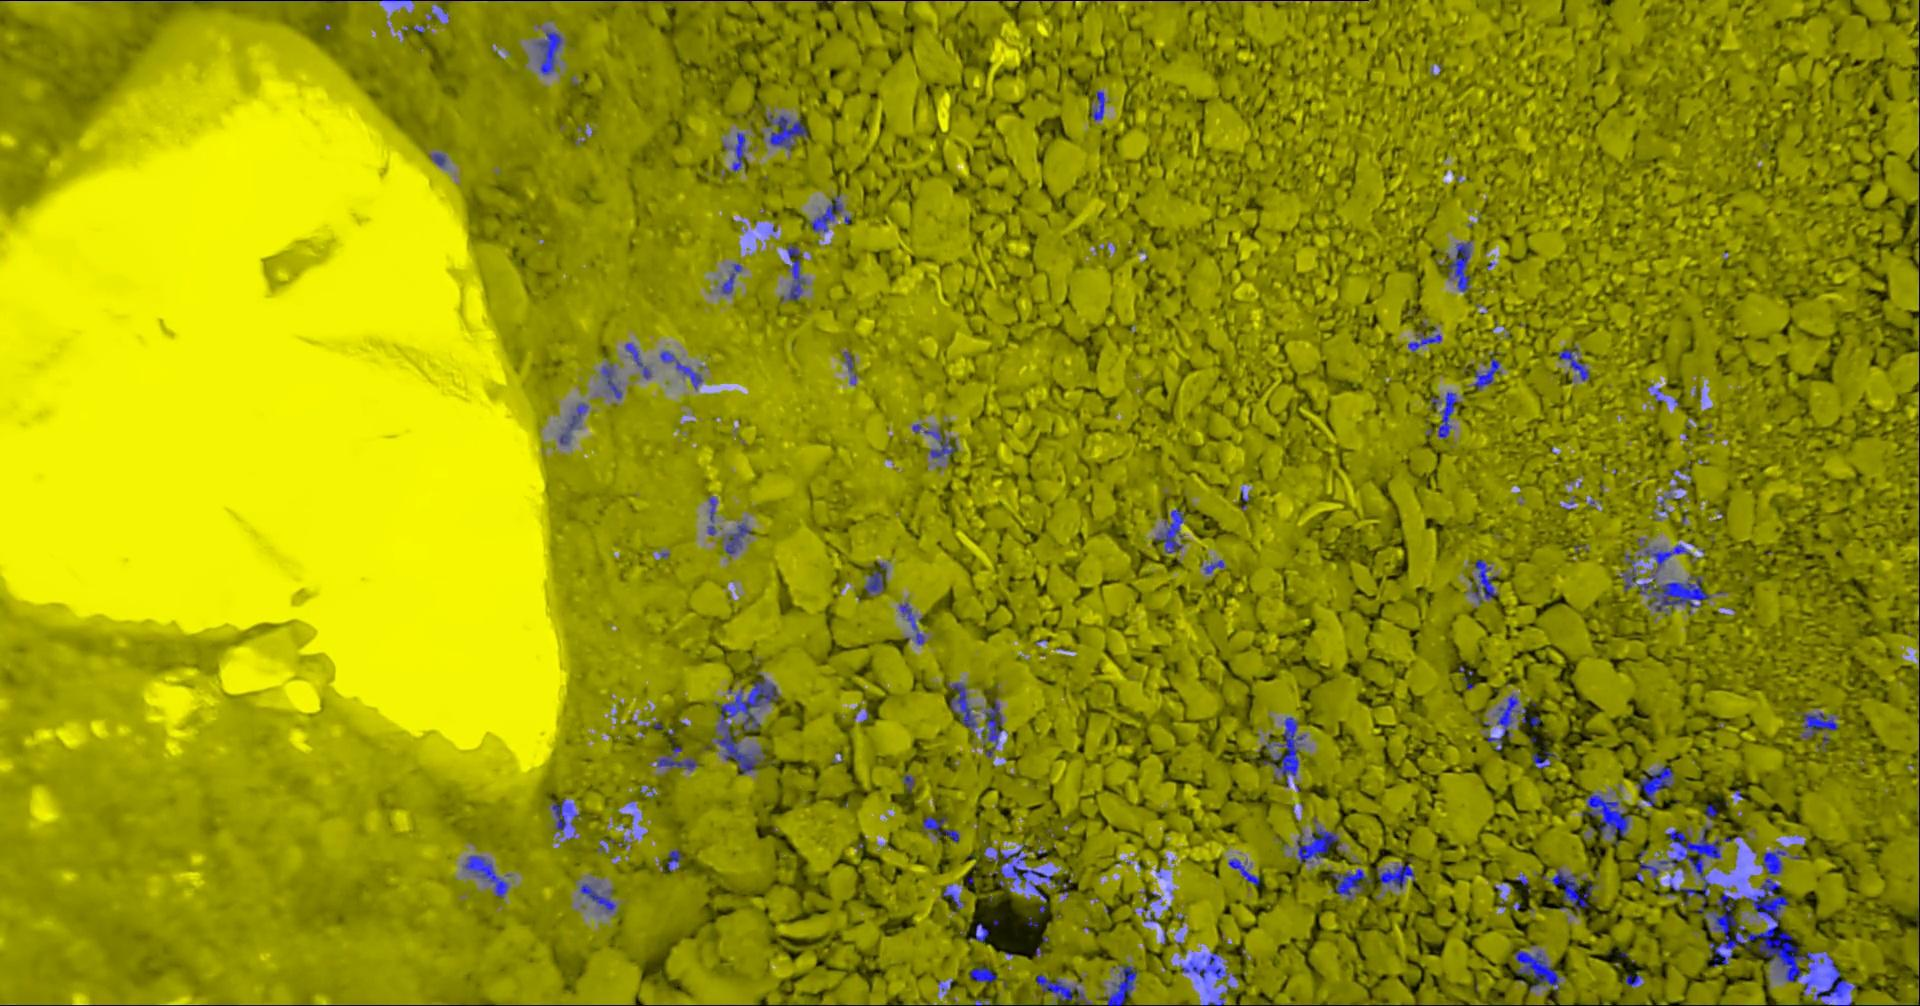ant: (988, 848, 1051, 902), (1258, 716, 1305, 786), (1486, 694, 1539, 749), (1545, 868, 1594, 913), (1581, 793, 1629, 836), (1297, 817, 1341, 862), (1514, 950, 1559, 995), (1815, 950, 1855, 998), (463, 855, 508, 897), (1035, 974, 1092, 1005), (1644, 544, 1690, 580), (659, 351, 702, 389), (1178, 951, 1234, 981), (1636, 765, 1674, 807), (764, 114, 808, 150), (780, 244, 805, 301), (947, 682, 977, 729), (1153, 508, 1183, 553), (1331, 869, 1371, 901), (982, 697, 1003, 757), (559, 401, 588, 445), (1430, 391, 1457, 438), (1375, 857, 1415, 889), (535, 30, 563, 74), (1106, 965, 1137, 1005), (1470, 559, 1497, 603), (809, 196, 842, 231), (1448, 240, 1470, 291), (1557, 345, 1589, 380), (1473, 351, 1501, 389), (899, 602, 924, 644), (923, 428, 957, 459), (579, 883, 615, 912), (623, 342, 651, 379), (657, 746, 698, 770), (1799, 713, 1837, 738), (922, 815, 959, 841), (1227, 857, 1258, 887), (723, 132, 745, 171), (724, 522, 750, 554), (551, 799, 577, 832), (1407, 326, 1441, 351), (863, 561, 886, 594), (599, 365, 621, 398), (1618, 554, 1637, 591), (720, 263, 742, 293), (942, 884, 964, 908), (662, 848, 681, 871), (1531, 751, 1556, 768), (969, 967, 997, 982), (1090, 90, 1103, 119), (843, 351, 855, 384), (707, 495, 716, 535), (1458, 666, 1473, 688), (1203, 559, 1224, 573), (974, 922, 988, 941), (1624, 974, 1641, 987), (902, 774, 913, 791), (430, 152, 444, 166), (1705, 803, 1717, 819)
